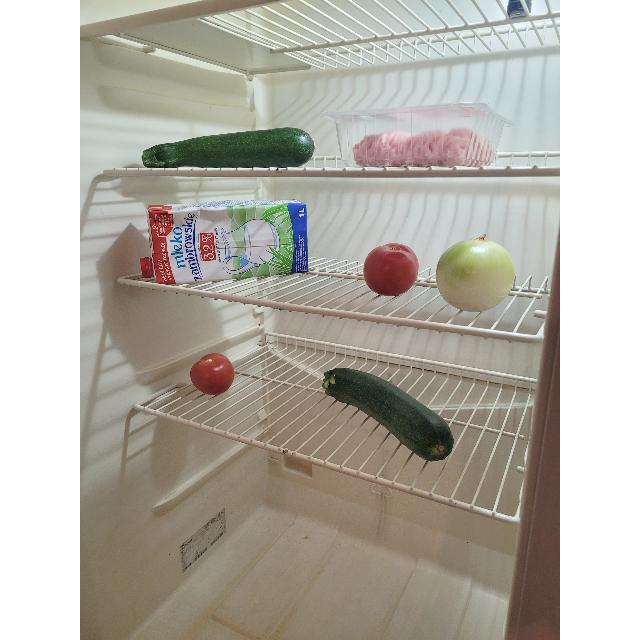meat: (355, 133, 489, 167)
milk: (144, 203, 310, 283)
onion: (438, 232, 518, 314)
tomato: (364, 240, 420, 298), (190, 352, 232, 396)
zucchini: (333, 372, 447, 454), (150, 131, 312, 165)
